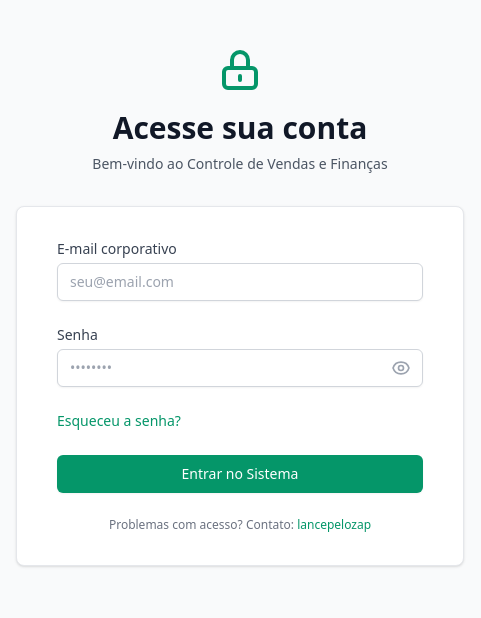
Test case: LoginPage › mostra erro quando login falha
Type "test@lpzteste.app" into the field with placeholder "seu@email.com" at (240, 282), box x1=57 y1=263 x2=423 y2=301
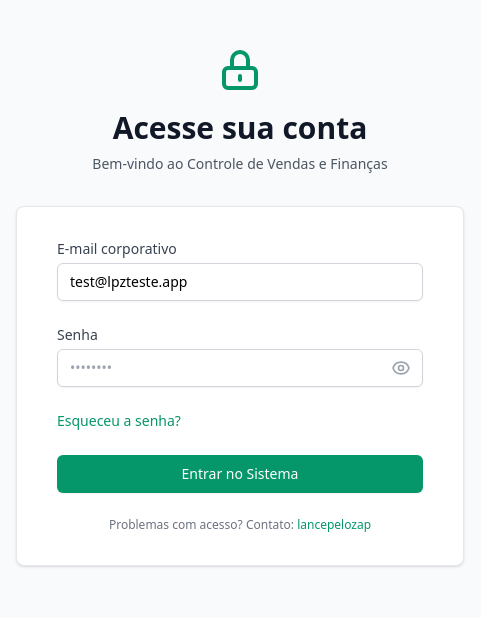
Type "wrong" into the password field with placeholder "••••••••" at (240, 368), box x1=57 y1=349 x2=423 y2=387
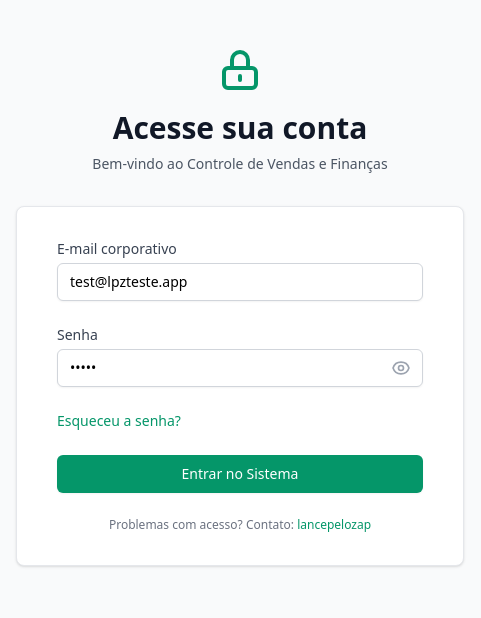
Click the button "Entrar no Sistema" at (240, 474), box x1=57 y1=455 x2=423 y2=493
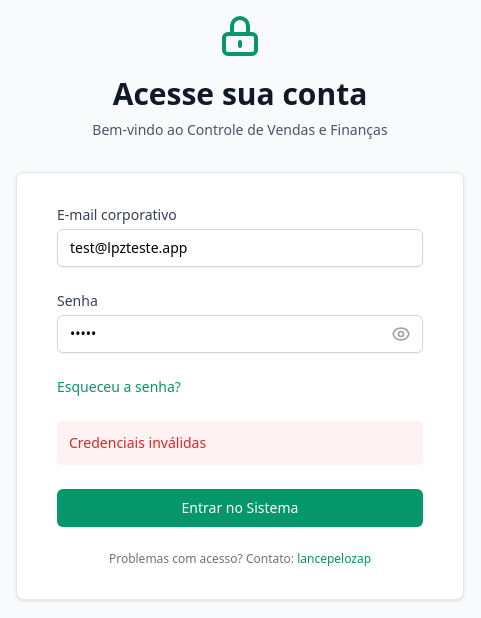
Check: the text "Credenciais inválidas" is shown, box x1=57 y1=421 x2=423 y2=465
